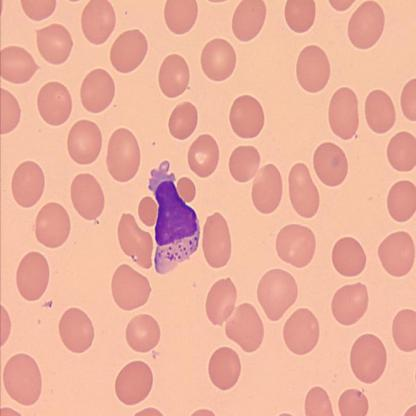Atypical lymphocyte: (145, 158, 203, 278)
